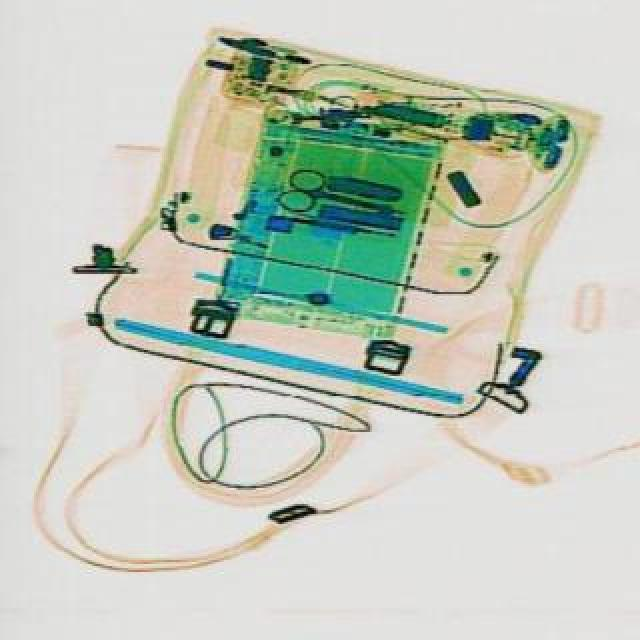pliers: (272, 162, 404, 234)
